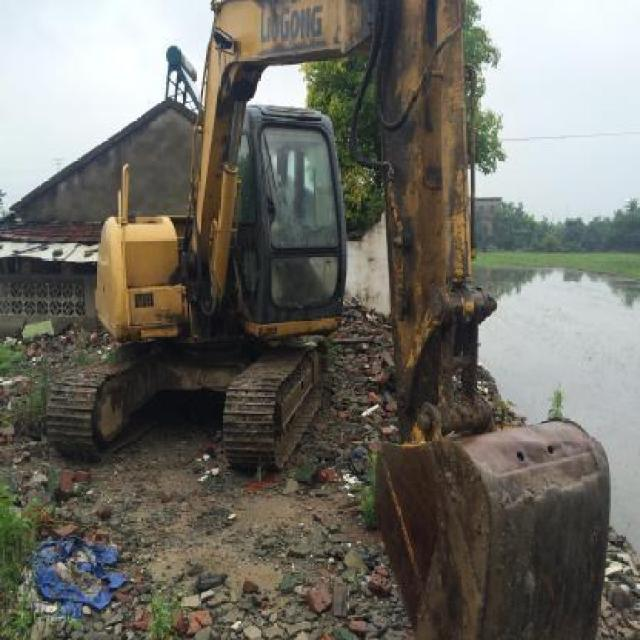Excavator: (35, 0, 610, 638)
